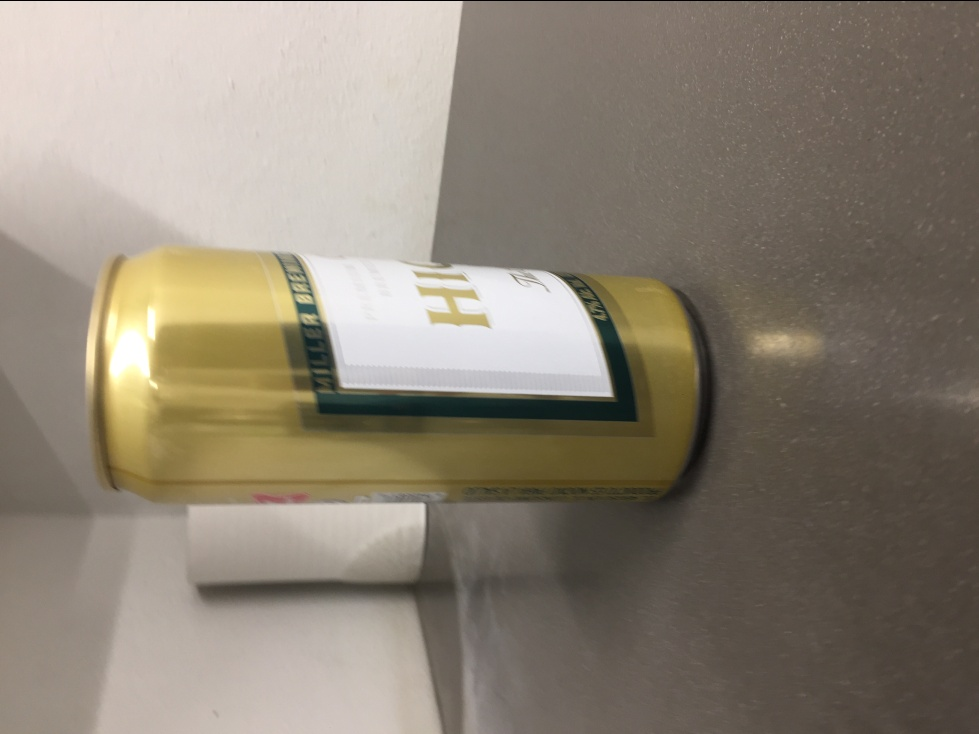miller: (83, 239, 705, 505)
